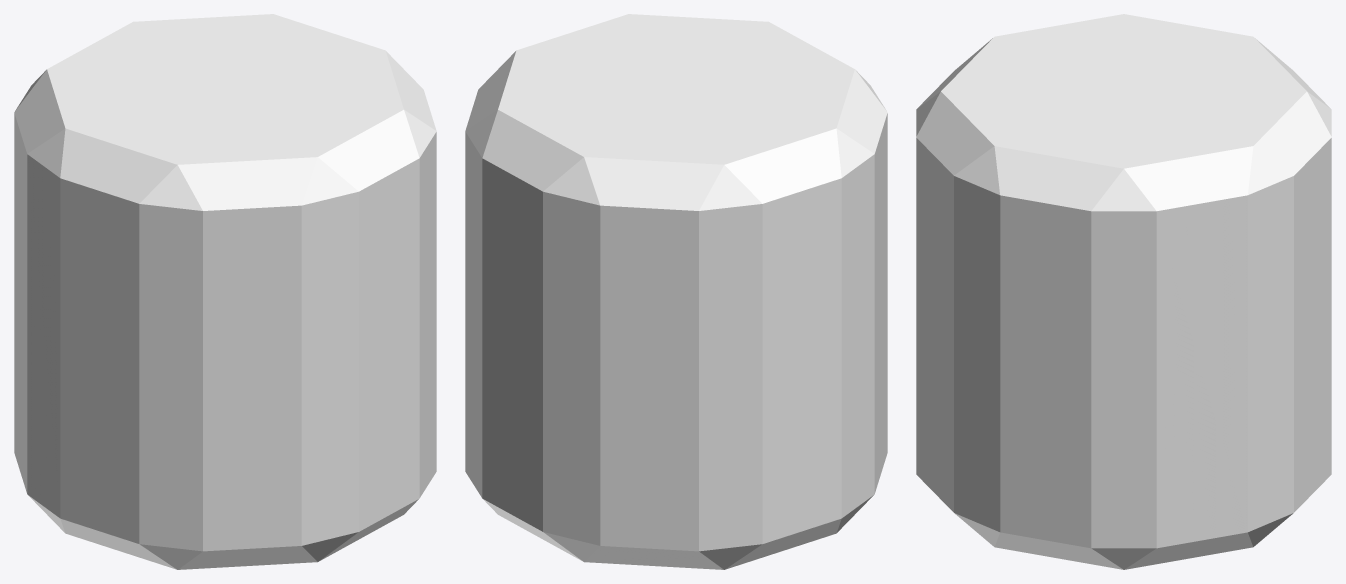
Rendered from prop.glb.
The picture shows the model from 3 angles, left to right: view 1: azimuth 30°, elevation 25°; view 2: azimuth 150°, elevation 25°; view 3: azimuth 270°, elevation 25°; orthographic projection.
Parts seen in each view (by area): view 1: InteractionPlinth; view 2: InteractionPlinth; view 3: InteractionPlinth.
Part boxes in pixels (box(x1,y1,x2,y2)): InteractionPlinth: box(14, 14, 436, 569); InteractionPlinth: box(465, 14, 887, 569); InteractionPlinth: box(916, 14, 1331, 569).
Size of the model in its own units: 0.4694 by 0.5 by 0.4694.
Materials: 1 (1 with a texture image).
